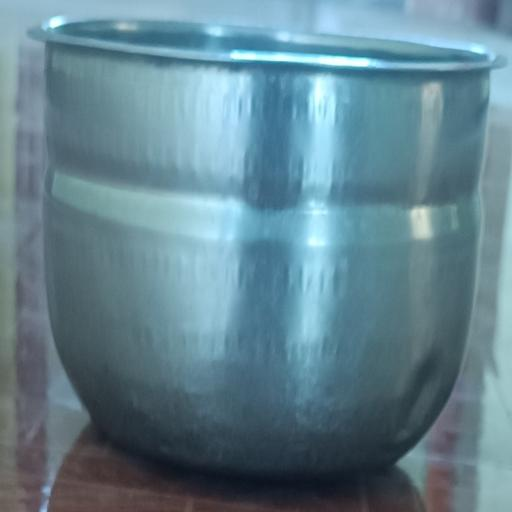vessel: (32, 18, 497, 477)
